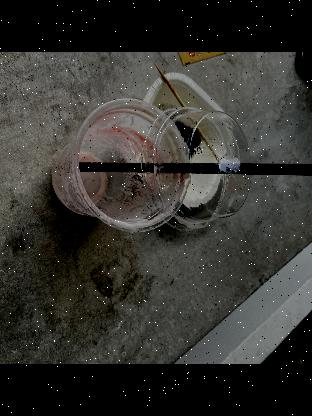Others: (47, 97, 189, 241), (138, 103, 254, 226), (74, 159, 312, 178)
